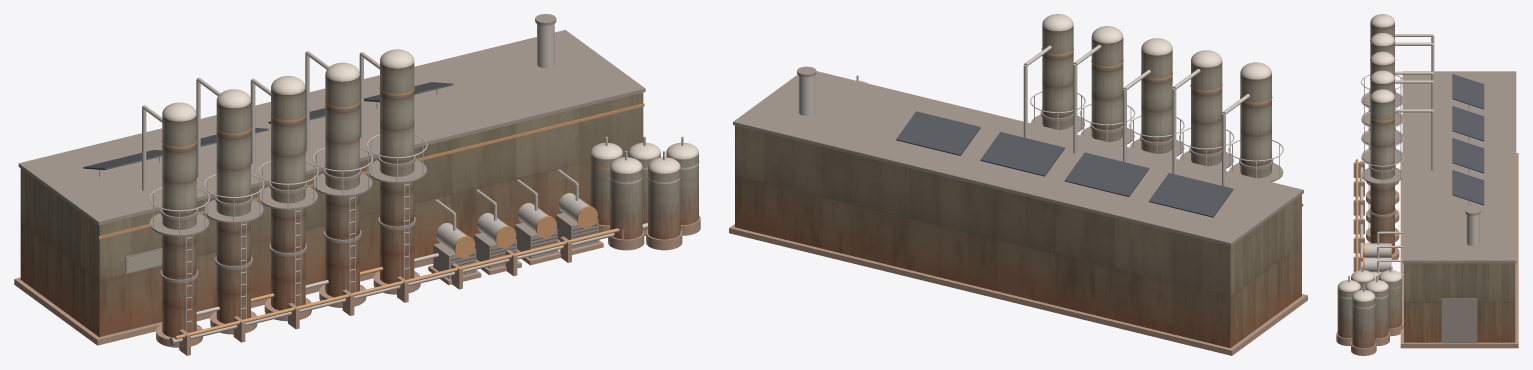
File: E12_fuel_plant_large.glb
The picture shows the model from 3 angles, left to right: view 1: azimuth 30°, elevation 25°; view 2: azimuth 150°, elevation 25°; view 3: azimuth 270°, elevation 25°; orthographic projection. The views are drawn at different scales.
Visible parts, largest first — view 1: process_hall, column (×5), roof_edge, storage_tank (×4), ground_manifold (×2), service_platform (×5), housing (×4), column_head (×5), foundation, accent_stripe, vent_stack, roof_radiator (+1 smaller); view 2: process_hall, roof_edge, column (×5), roof_radiator (×4), foundation, column_head (×5), vent_stack; view 3: roof_edge, process_hall, column (×5), roof_radiator (×4), storage_tank (×4), foundation, service_door, column_head (×5), tank_head (×5), service_platform (×5), ground_manifold (×2), cylinder (×2) (+3 smaller).
Boxes of the visible parts, x1=… form: process_hall: x1=20, y1=92, x2=643, y2=337; column (×5): x1=162, y1=62, x2=414, y2=337; roof_edge: x1=18, y1=30, x2=645, y2=225; storage_tank (×4): x1=590, y1=154, x2=698, y2=239; ground_manifold (×2): x1=174, y1=223, x2=647, y2=343; service_platform (×5): x1=149, y1=160, x2=426, y2=236; housing (×4): x1=433, y1=213, x2=598, y2=278; column_head (×5): x1=162, y1=49, x2=414, y2=121; foundation: x1=14, y1=258, x2=433, y2=345; accent_stripe: x1=98, y1=103, x2=644, y2=239; vent_stack: x1=537, y1=24, x2=554, y2=68; roof_radiator: x1=83, y1=150, x2=162, y2=169; process_hall: x1=735, y1=125, x2=1301, y2=348; roof_edge: x1=733, y1=71, x2=1303, y2=246; column (×5): x1=1042, y1=26, x2=1271, y2=178; roof_radiator (×4): x1=896, y1=111, x2=1233, y2=217; foundation: x1=729, y1=224, x2=1307, y2=355; column_head (×5): x1=1042, y1=14, x2=1271, y2=79; vent_stack: x1=798, y1=76, x2=814, y2=115; roof_edge: x1=1402, y1=71, x2=1516, y2=263; process_hall: x1=1404, y1=263, x2=1515, y2=342; column (×5): x1=1370, y1=23, x2=1394, y2=254; roof_radiator (×4): x1=1452, y1=74, x2=1484, y2=205; storage_tank (×4): x1=1337, y1=278, x2=1401, y2=348; foundation: x1=1400, y1=153, x2=1518, y2=348; service_door: x1=1441, y1=298, x2=1477, y2=343; column_head (×5): x1=1370, y1=14, x2=1394, y2=102; tank_head (×5): x1=1337, y1=270, x2=1401, y2=301; service_platform (×5): x1=1361, y1=92, x2=1402, y2=184; ground_manifold (×2): x1=1355, y1=159, x2=1363, y2=270; cylinder (×2): x1=1365, y1=243, x2=1391, y2=271.
Bounding box in the file's own units: 21.13 × 8.18 × 8.18.
Materials: 12 (3 with a texture image).
